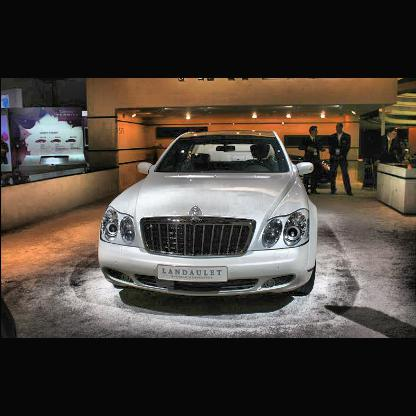Maybach Landaulet Convertible 2012: (96, 120, 318, 291)
